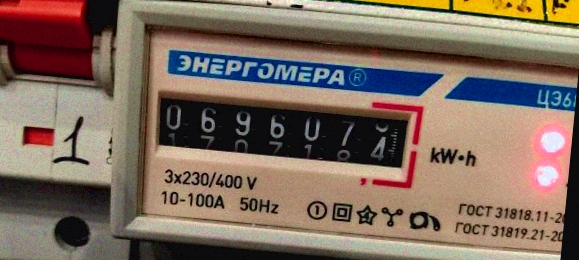0: (301, 111, 322, 143), (162, 101, 183, 130)
4: (368, 133, 387, 162)
6: (197, 103, 219, 133), (266, 110, 287, 140)
7: (336, 117, 356, 148)
9: (232, 108, 252, 137)
screen: (137, 72, 429, 188)
